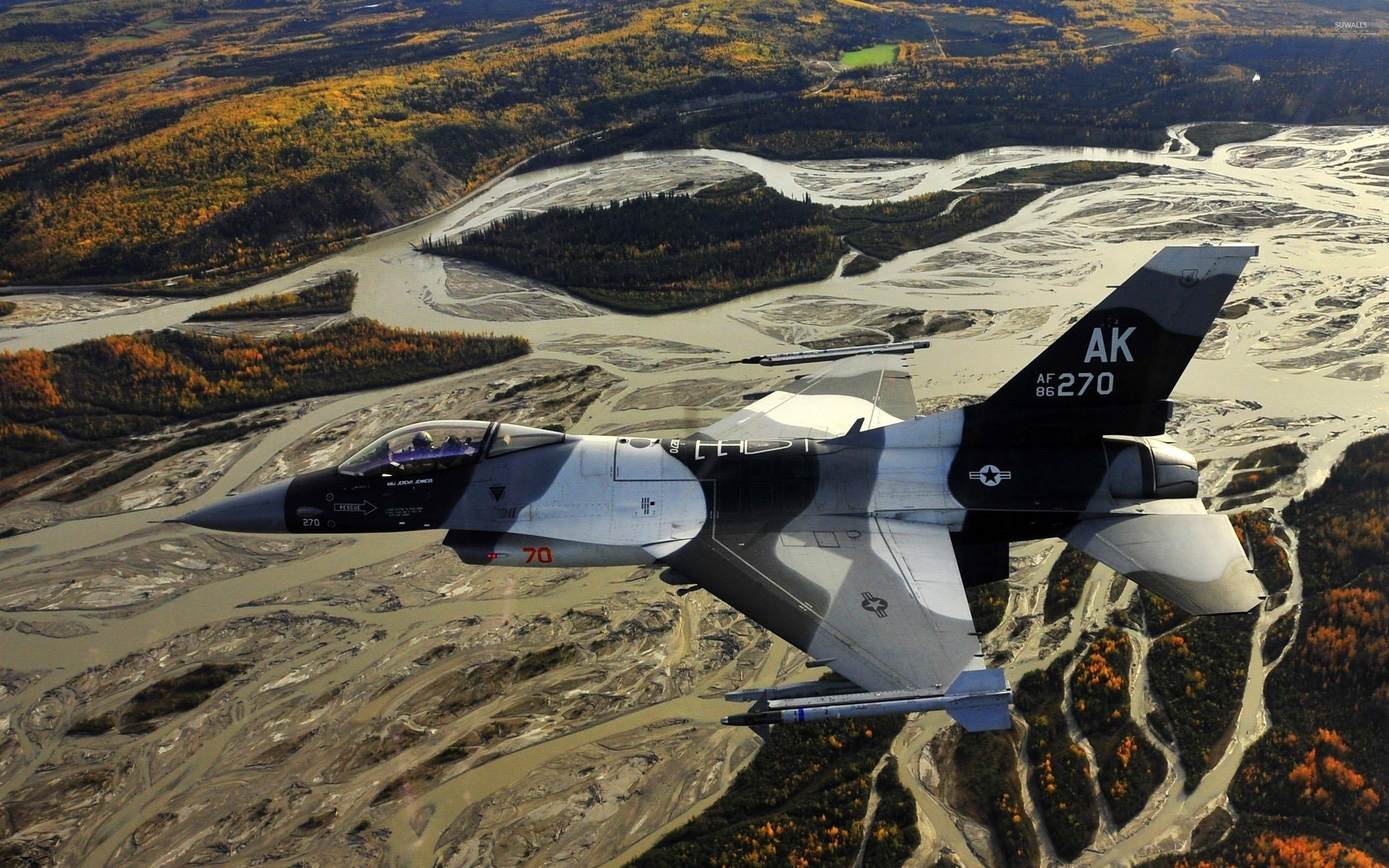aircraft: (24, 242, 1276, 749), (170, 419, 711, 567)
